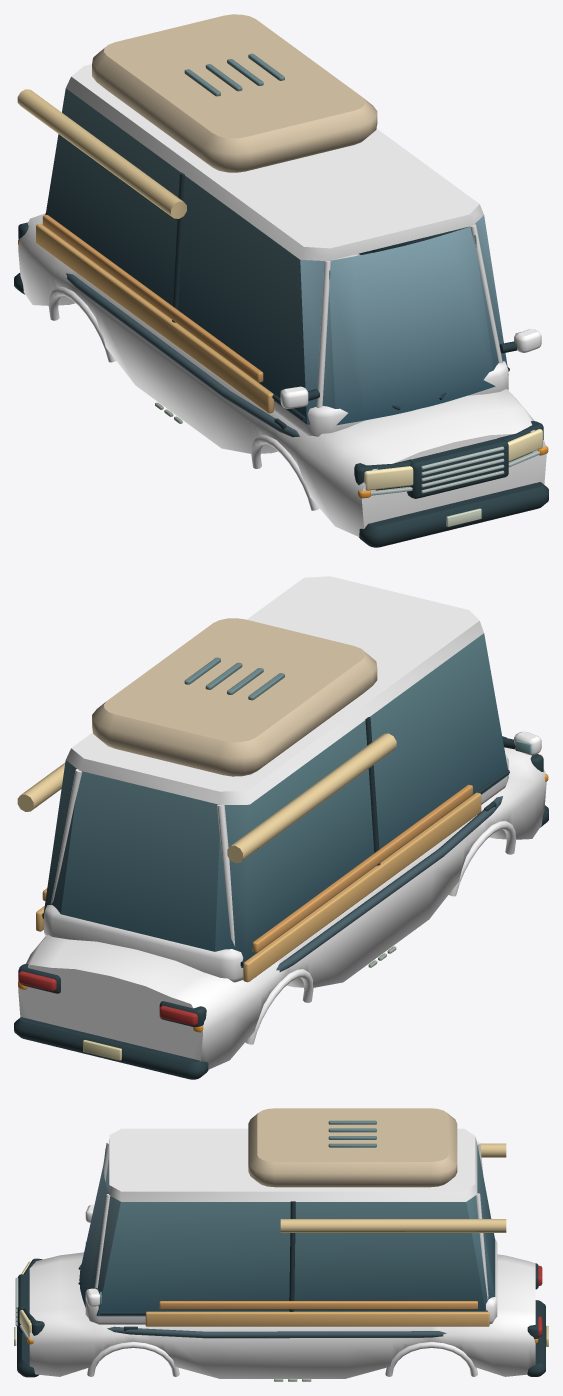
The model's file is sundown.glb.
3 views of the same model, one above another, from view 1: azimuth 30°, elevation 25°; view 2: azimuth 150°, elevation 25°; view 3: azimuth 270°, elevation 25° (orthographic). The views are drawn at different scales.
Visible parts, largest first — view 1: Chassis, Headlamps; view 2: Chassis, BrakeLamps; view 3: Chassis.
Part boxes in pixels (left/top/right/bottom): Chassis: left=14, top=14, right=548, bottom=547; Headlamps: left=364, top=429, right=542, bottom=490; Chassis: left=14, top=576, right=548, bottom=1079; BrakeLamps: left=18, top=971, right=197, bottom=1025; Chassis: left=14, top=1108, right=548, bottom=1381.
Bounding box in the file's own units: 2.18 × 2.35 × 5.33.
